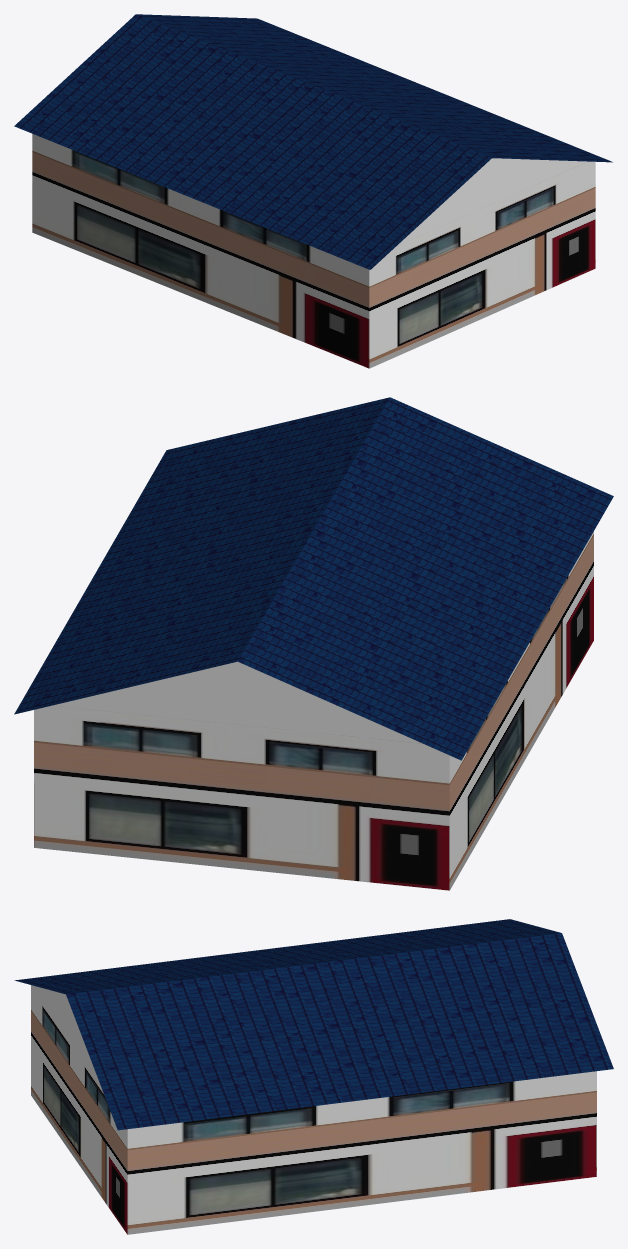
The picture shows the model from 3 angles, top to bottom: view 1: azimuth 30°, elevation 25°; view 2: azimuth 150°, elevation 25°; view 3: azimuth 270°, elevation 25°; orthographic projection. The views are drawn at different scales.
Visible parts, largest first — view 1: CityEngineMaterial_6_m, CityEngineMaterial_5_m, CityEngineMaterial_3_m; view 2: CityEngineMaterial_6_m, CityEngineMaterial_5_m, CityEngineMaterial_3_m; view 3: CityEngineMaterial_6_m, CityEngineMaterial_5_m, CityEngineMaterial_3_m.
Part boxes in pixels (x1,y1,x2,y2): CityEngineMaterial_6_m: (14,14,612,269); CityEngineMaterial_5_m: (32,134,595,368); CityEngineMaterial_3_m: (396,158,587,246); CityEngineMaterial_6_m: (14,397,613,760); CityEngineMaterial_5_m: (34,531,593,890); CityEngineMaterial_3_m: (52,661,422,743); CityEngineMaterial_6_m: (14,919,613,1130); CityEngineMaterial_5_m: (31,985,596,1234); CityEngineMaterial_3_m: (36,986,95,1072).
Size of the model in its own units: 35.87 by 13.65 by 43.04.
